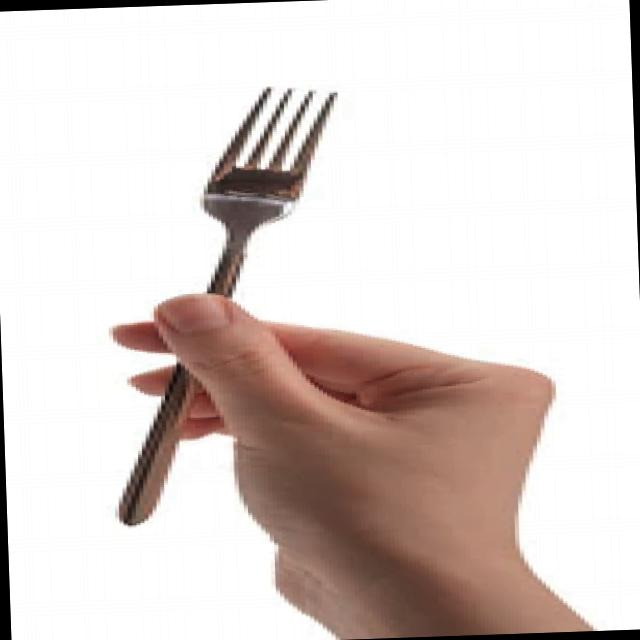fork: (98, 84, 360, 528)
